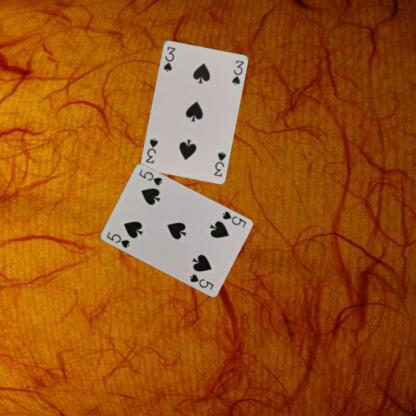3s: (211, 148, 227, 178), (161, 44, 176, 73)
5s: (220, 208, 247, 228), (104, 229, 130, 249)
